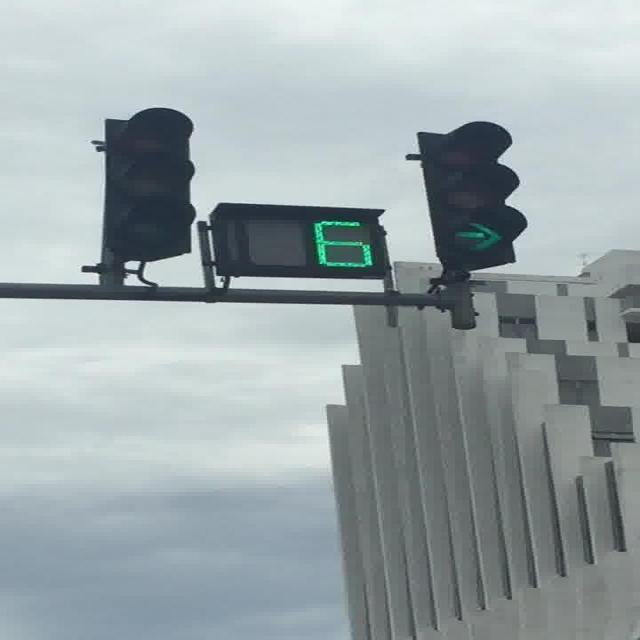green_light: (414, 118, 528, 270)
